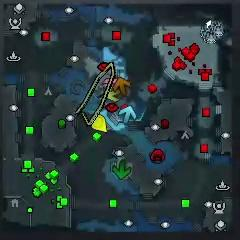p4: (91, 114, 108, 131)
x1: (103, 78, 120, 84)
x2: (101, 88, 120, 102)
x3: (118, 106, 136, 124)
x4: (112, 159, 131, 179)
x5: (113, 76, 131, 95)
